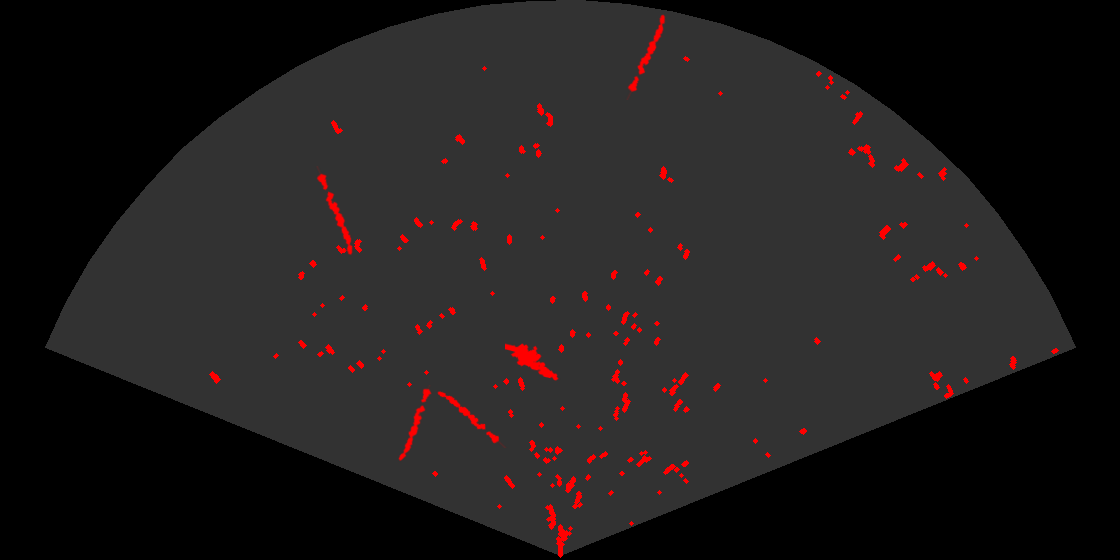chain: (436, 390, 508, 448), (625, 13, 667, 100), (315, 166, 354, 257), (397, 385, 433, 463)
frogman: (505, 342, 561, 382)
